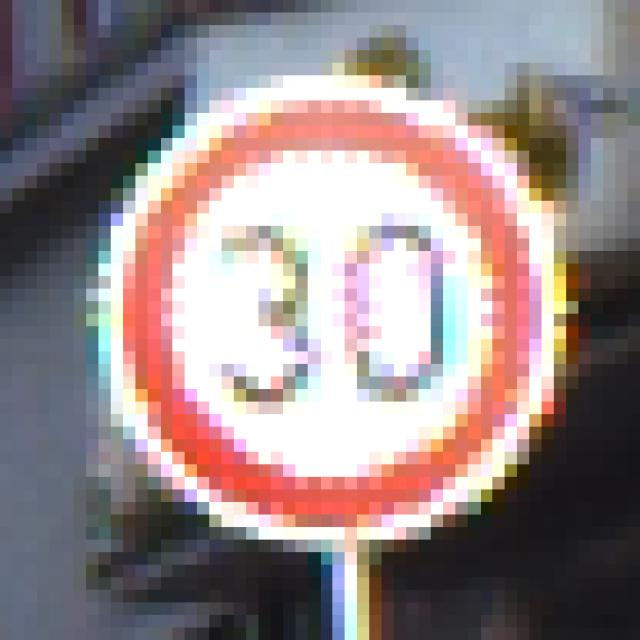Speed Limit -30-: (68, 56, 572, 571)
